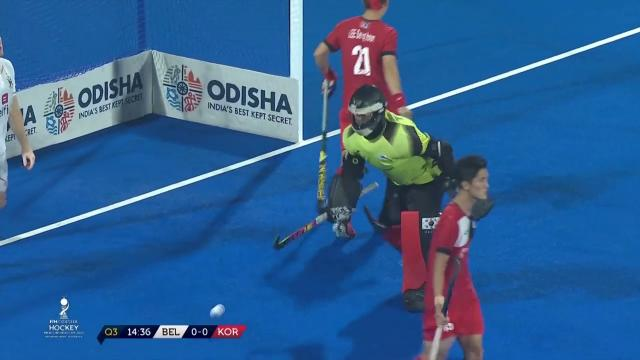ball: (207, 301, 226, 321)
